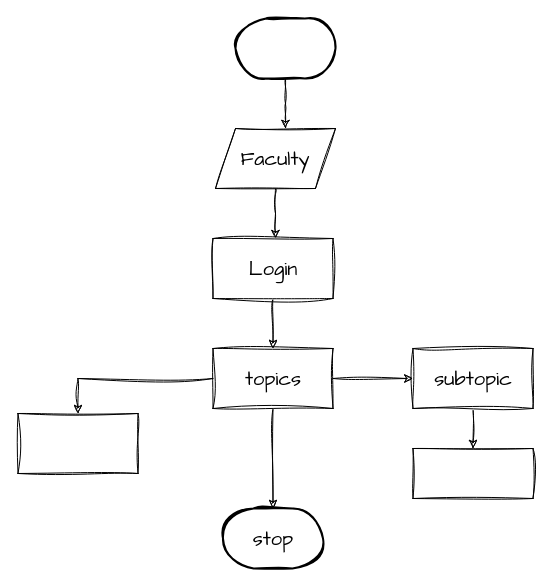
Some shapes in this 550 by 586 pixel diagram are drawn without their labels. Each missing label, with the box of its shape:
assignment: (412, 448, 533, 498)
start: (234, 17, 336, 79)
study materials: (17, 412, 138, 474)
